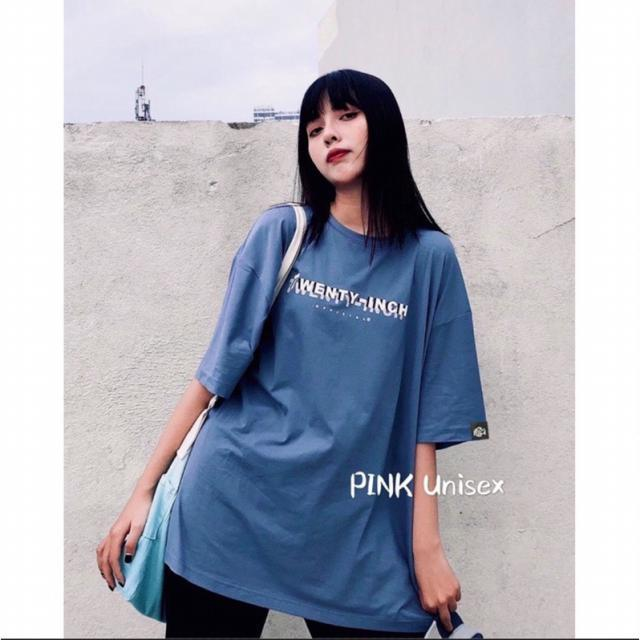Shirt: (161, 201, 495, 632)
